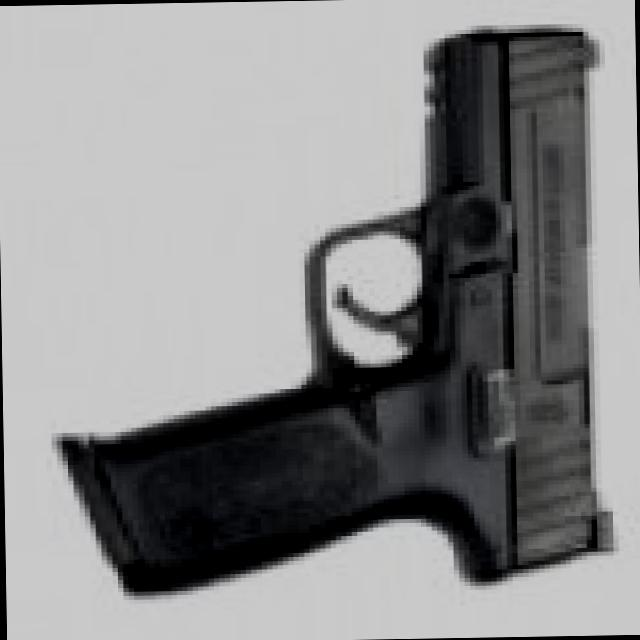handgun: (54, 15, 634, 592)
